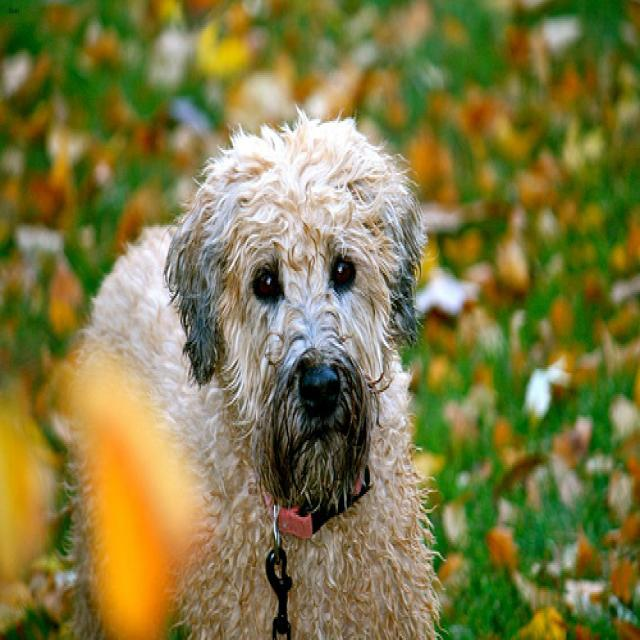dog: (170, 123, 414, 471)
